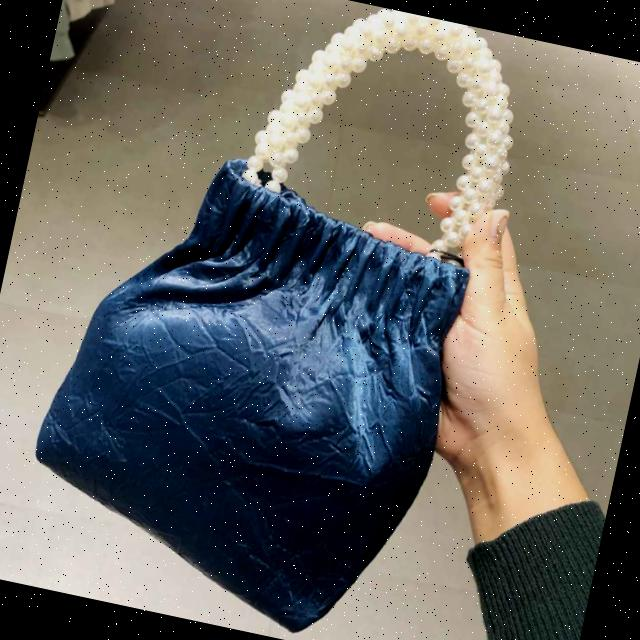Handbag: (0, 126, 494, 640)
